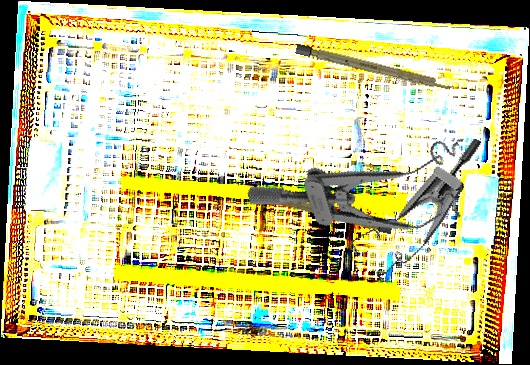Scalpel Handle: (295, 43, 455, 93), (251, 188, 393, 235)
Speculum: (245, 120, 481, 280), (341, 109, 484, 297)
